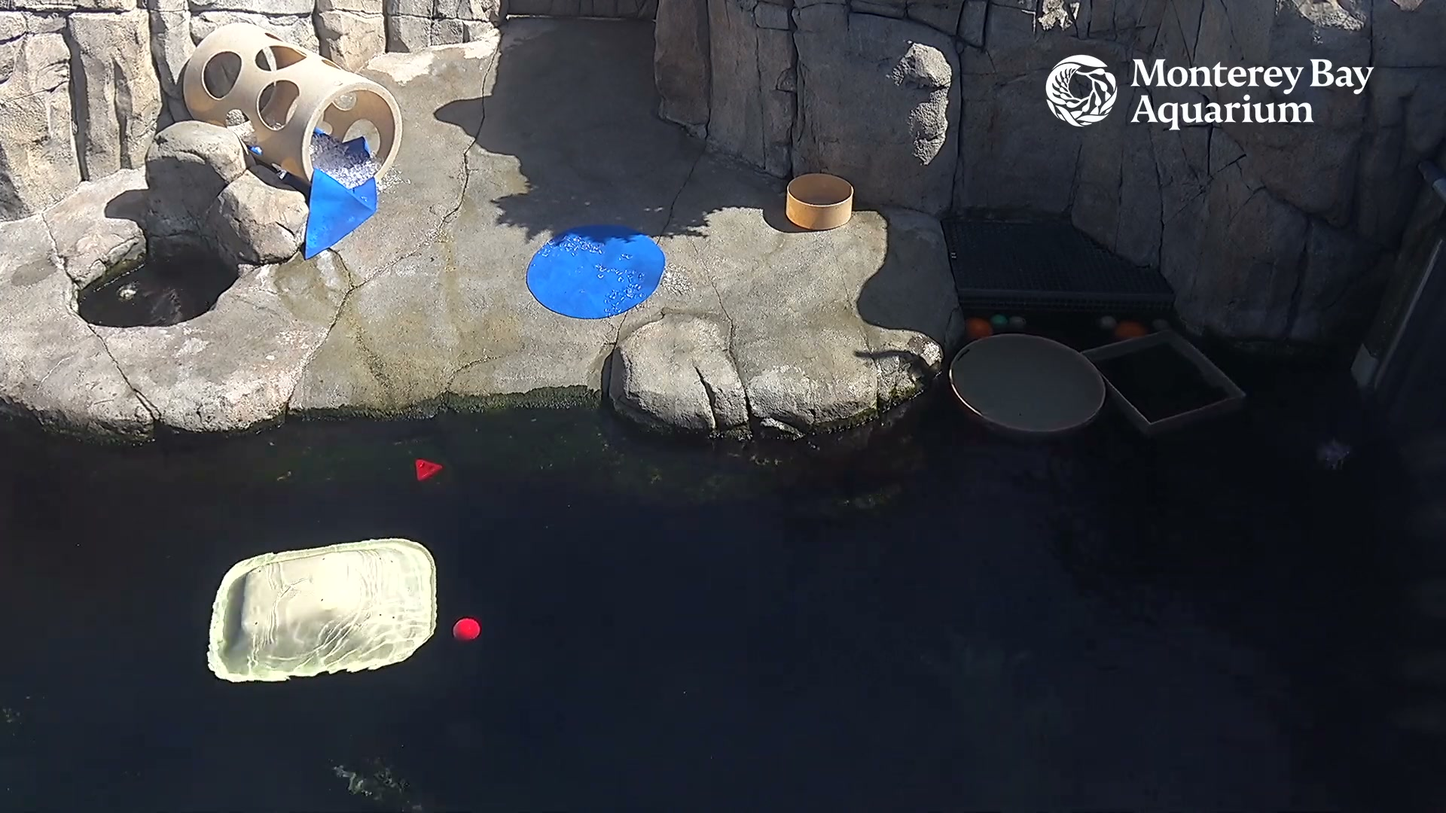Southern Sea Otter: (109, 275, 200, 327)
